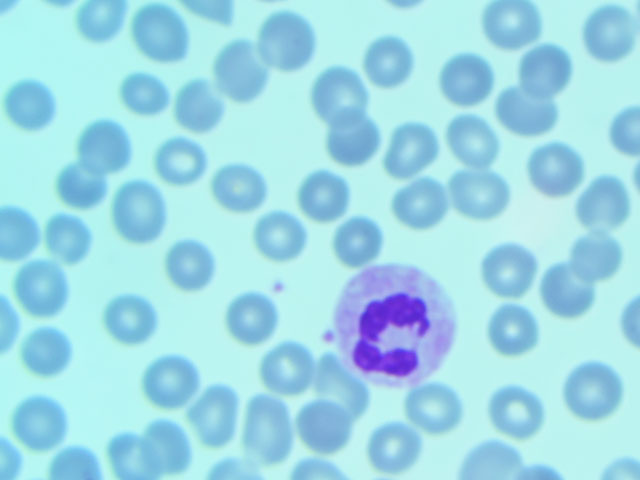Platelets: (270, 277, 288, 300)
RBC: (239, 398, 296, 457), (583, 6, 639, 58), (78, 117, 133, 169), (117, 71, 172, 123), (131, 5, 186, 57), (73, 1, 128, 53), (171, 79, 226, 131), (212, 47, 267, 99), (259, 13, 314, 65), (314, 67, 369, 119), (359, 35, 414, 87), (325, 115, 380, 167), (299, 168, 354, 220), (255, 211, 310, 263), (211, 167, 266, 219), (152, 135, 207, 187), (114, 180, 169, 232), (58, 162, 113, 214), (41, 214, 96, 266), (12, 263, 67, 315), (18, 324, 73, 376), (103, 292, 158, 344), (160, 240, 215, 292), (223, 292, 278, 344), (144, 357, 199, 409), (187, 389, 242, 441), (255, 344, 310, 396), (291, 401, 346, 453), (318, 360, 373, 412), (135, 424, 190, 476), (52, 428, 107, 480), (14, 397, 69, 449), (366, 422, 421, 474), (407, 379, 462, 431), (484, 386, 539, 438), (567, 367, 622, 419), (481, 302, 536, 354), (489, 238, 544, 290), (544, 266, 599, 318), (569, 231, 624, 283), (575, 173, 630, 225), (528, 142, 583, 194), (449, 168, 504, 220), (394, 179, 449, 231), (380, 126, 435, 178), (447, 115, 502, 167), (439, 52, 494, 104), (503, 86, 558, 138), (519, 45, 574, 97), (484, 2, 539, 54), (332, 213, 387, 265), (1, 78, 55, 130), (459, 434, 518, 480)
WBC: (326, 260, 459, 384)
